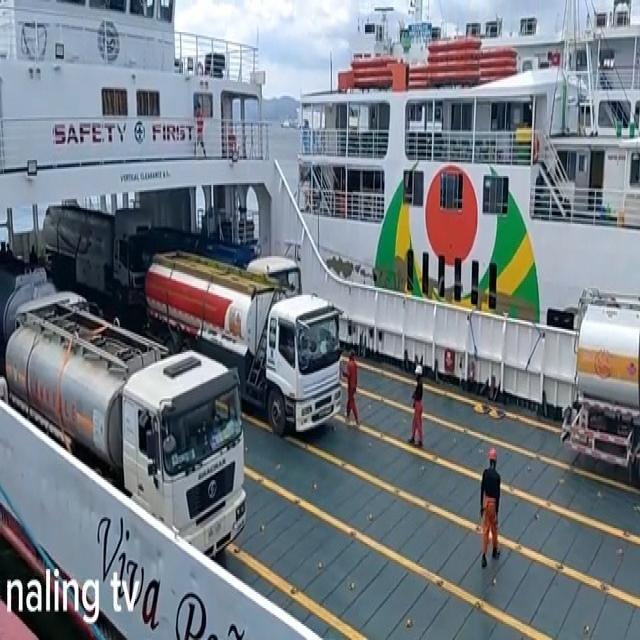truck: (2, 304, 246, 572), (142, 254, 342, 438), (559, 292, 640, 484)
